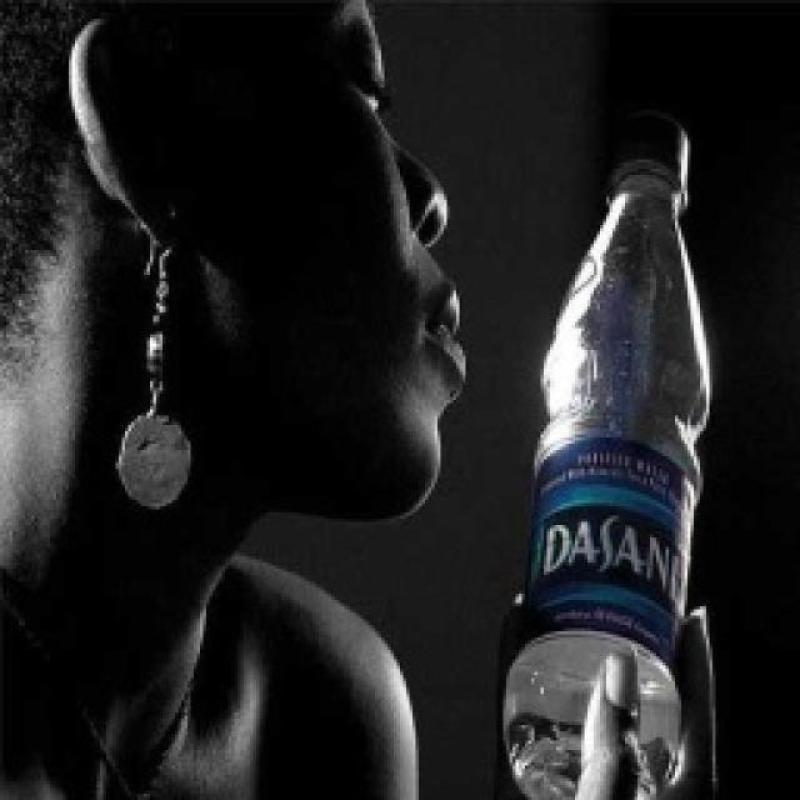botella: (498, 120, 717, 799)
